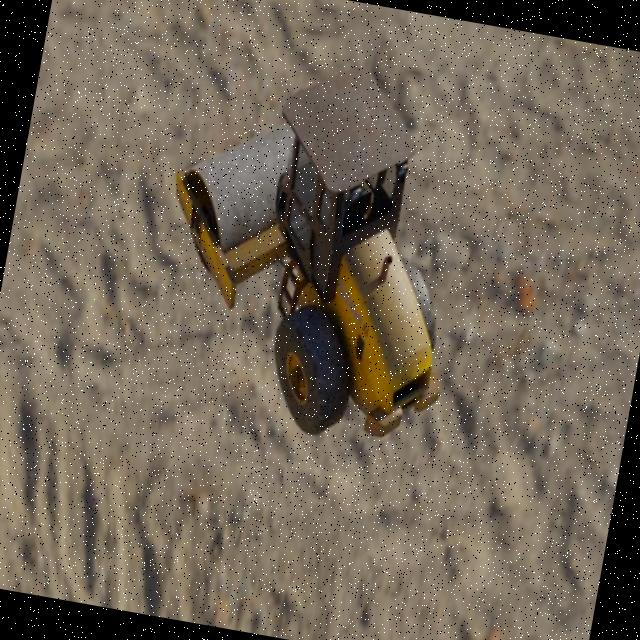Roller: (135, 40, 493, 456)
